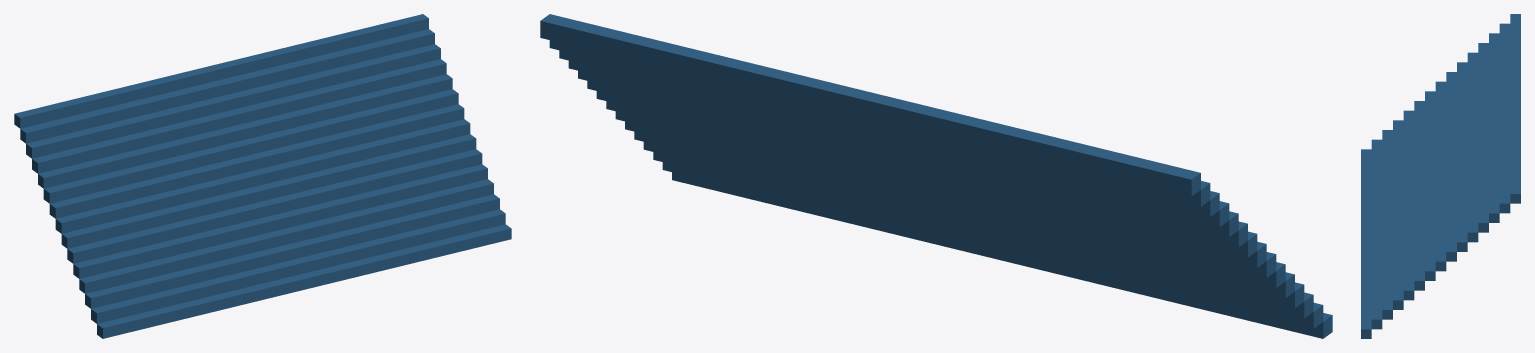
Rendered from ConstructionMaterials-29.obj.
The picture shows the model from 3 angles, left to right: view 1: azimuth 30°, elevation 25°; view 2: azimuth 150°, elevation 25°; view 3: azimuth 270°, elevation 25°; orthographic projection. The views are drawn at different scales.
Size of the model in its own units: 4 by 1.5 by 1.5.
1 material, 1 textured.
